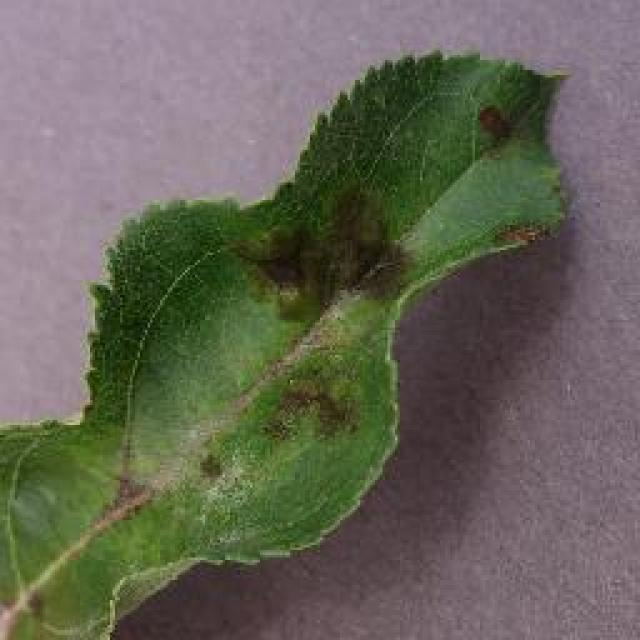apple scab disease: (0, 44, 572, 637)
